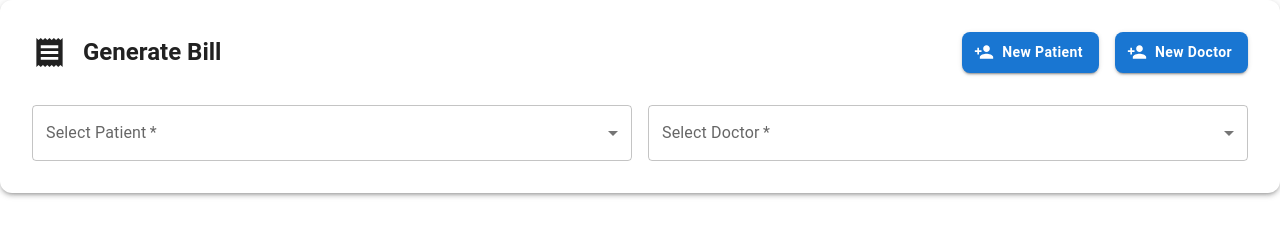
Test: GenerateBill › loads and displays doctors
Press the mouse on the dropdown named "select doctor" next to "Select Doctor" at (948, 132), box [648, 104, 1248, 160]
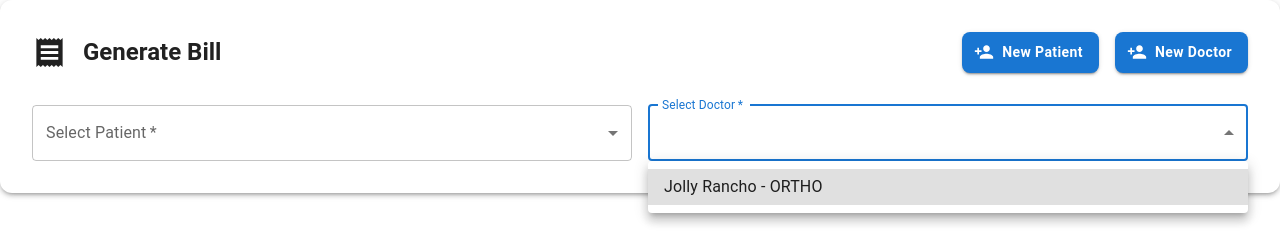
Expected: the option "Jolly Rancho - ORTHO" is shown, [648, 169, 1248, 205]
